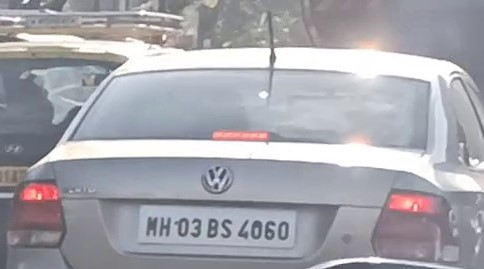MH03BS4060: (139, 205, 297, 248)
